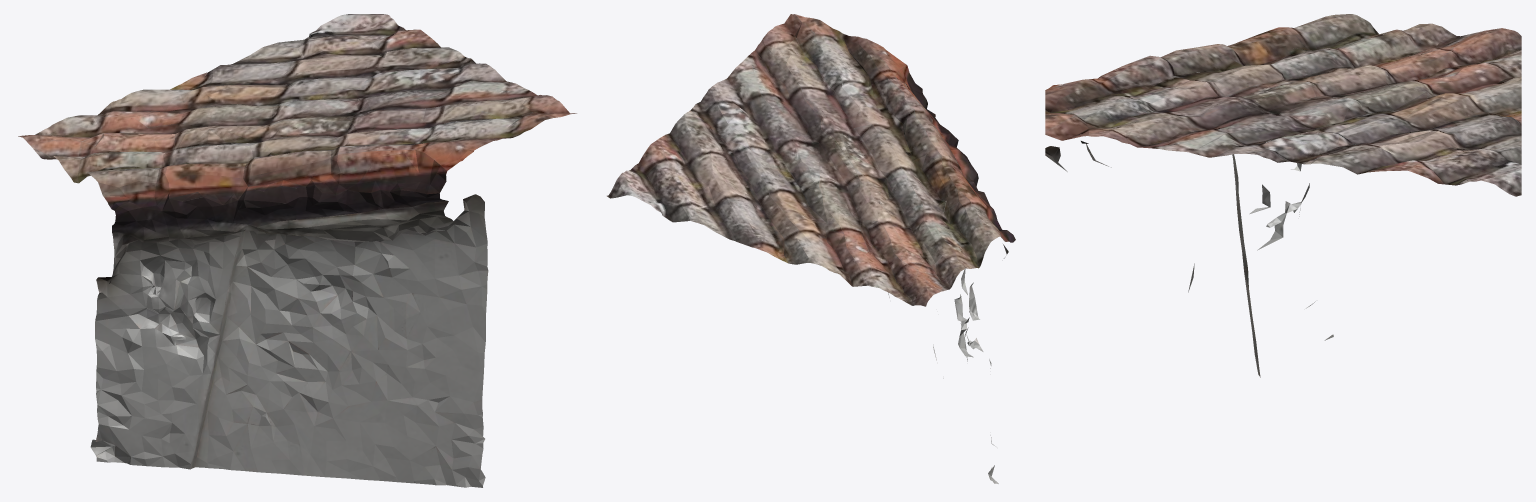
The picture shows the model from 3 angles, left to right: view 1: azimuth 30°, elevation 25°; view 2: azimuth 150°, elevation 25°; view 3: azimuth 270°, elevation 25°; orthographic projection. The views are drawn at different scales.
Size of the model in its own units: 1.67 by 1.58 by 1.67.
Materials: 4 (4 with a texture image).
